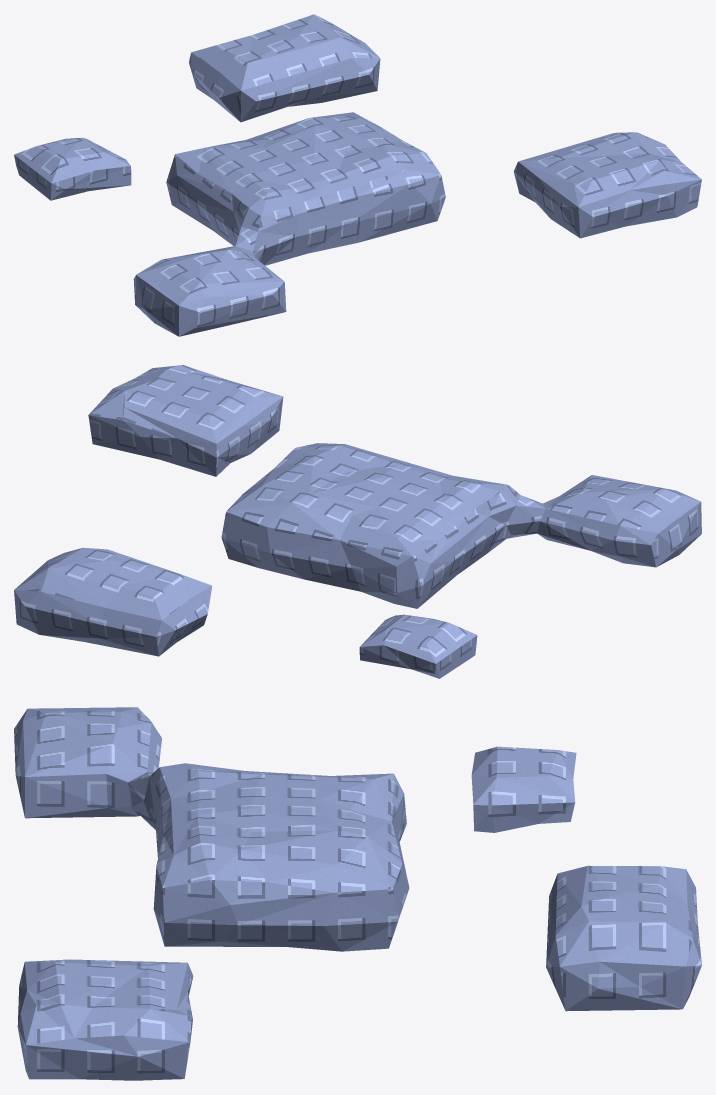
The model's file is IceFlatStones.glb.
3 renders of one model, top to bottom at view 1: azimuth 30°, elevation 25°; view 2: azimuth 150°, elevation 25°; view 3: azimuth 270°, elevation 25°, orthographic. The views are drawn at different scales.
Parts seen in each view (by area): view 1: IceFlatStones_Rock; view 2: IceFlatStones_Rock; view 3: IceFlatStones_Rock.
Boxes of the visible parts, box(x1,y1,x2,y2) form: IceFlatStones_Rock: box(14, 14, 701, 336); IceFlatStones_Rock: box(14, 365, 701, 678); IceFlatStones_Rock: box(14, 707, 701, 1080).
Size of the model in its own units: 16.14 by 2.04 by 13.72.
Materials: 1 (1 with a texture image).
